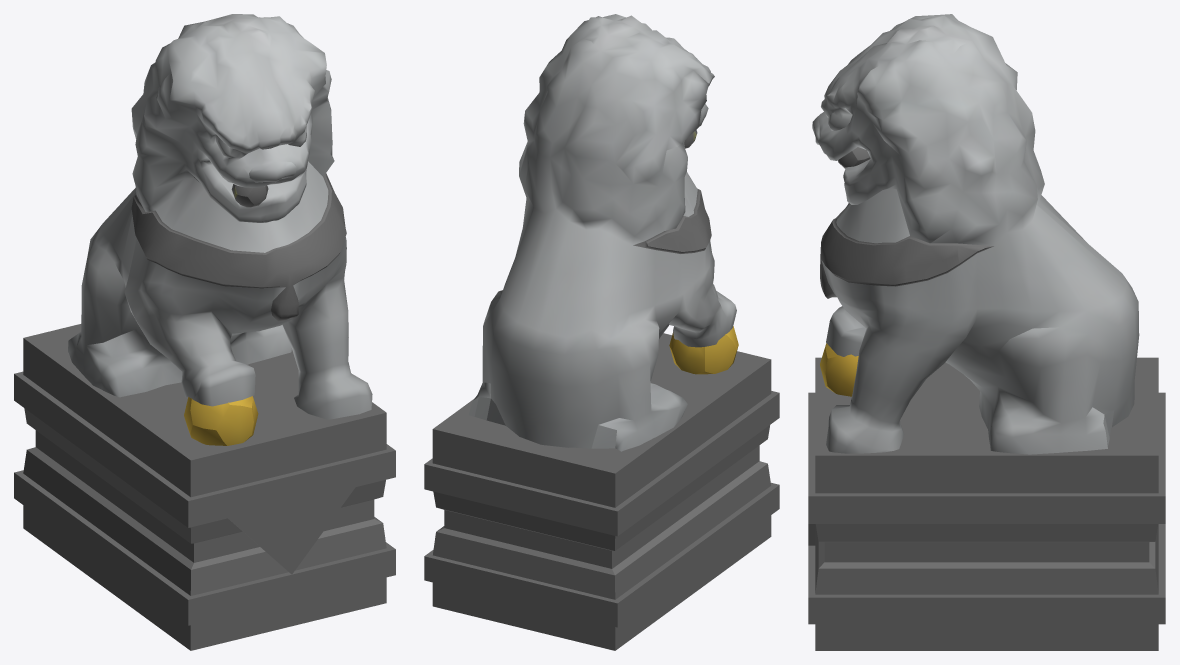
File: Lion_statue.fbx
The picture shows the model from 3 angles, left to right: view 1: azimuth 30°, elevation 25°; view 2: azimuth 150°, elevation 25°; view 3: azimuth 270°, elevation 25°; orthographic projection. The views are drawn at different scales.
Parts seen in each view (by area): view 1: Lion; view 2: Lion; view 3: Lion.
Boxes of the visible parts, x1,y1,x2,y2 form: Lion: (14,14,395,650); Lion: (424,14,779,650); Lion: (808,14,1165,650).
Bounding box in the file's own units: 1.75 × 4.55 × 2.55.
Materials: 1 (1 with a texture image).
